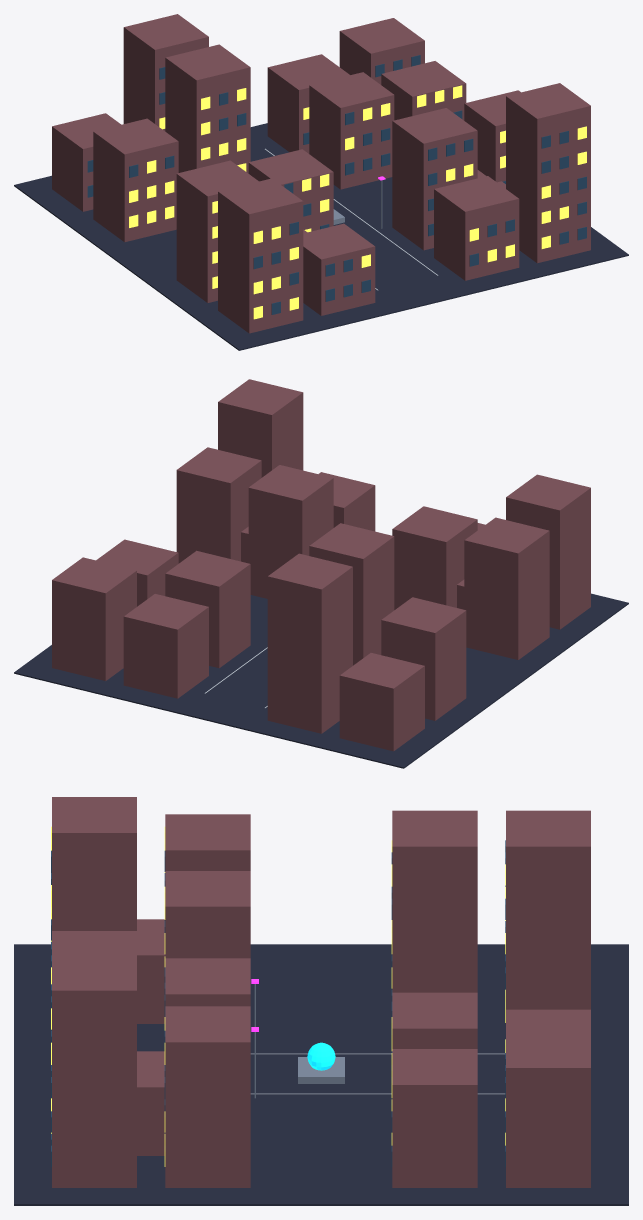
Rendered from wise_square.glb.
The picture shows the model from 3 angles, top to bottom: view 1: azimuth 30°, elevation 25°; view 2: azimuth 150°, elevation 25°; view 3: azimuth 270°, elevation 25°; orthographic projection. The views are drawn at different scales.
Visible parts, largest first — view 1: street, apartment_24_-24, apartment_-24_-24, apartment_-12_12, apartment_-24_12, apartment_12_-12, apartment_12_12, apartment_12_-24, apartment_-24_-12, apartment_-12_24, apartment_-12_-24, apartment_12_24 (+5 smaller); view 2: street, apartment_-12_24, apartment_-24_-12, apartment_24_24, apartment_12_-12, apartment_-24_-24, apartment_12_24, apartment_24_-12, apartment_-24_24, apartment_-24_12, apartment_24_-24, apartment_-12_-12 (+4 smaller); view 3: street, apartment_24_-24, apartment_-12_24, apartment_-12_12, apartment_24_-12, apartment_24_24, apartment_24_12, apartment_-24_-24, apartment_-12_-12, apartment_-24_-12, apartment_12_12, apartment_12_-12 (+6 smaller).
Boxes of the visible parts, x1,y1,x2,y2 form: street: [14, 123, 628, 350]; apartment_24_-24: [506, 83, 590, 263]; apartment_-24_-24: [218, 178, 303, 333]; apartment_-12_12: [165, 44, 250, 173]; apartment_-24_12: [93, 118, 178, 242]; apartment_12_-12: [392, 108, 477, 250]; apartment_12_12: [309, 72, 394, 189]; apartment_12_-24: [434, 176, 519, 280]; apartment_-24_-12: [176, 160, 258, 302]; apartment_-12_24: [123, 14, 208, 130]; apartment_-12_-24: [303, 223, 375, 315]; apartment_12_24: [267, 54, 349, 153]; street: [14, 593, 628, 768]; apartment_-12_24: [267, 553, 352, 733]; apartment_-24_-12: [464, 517, 549, 659]; apartment_24_24: [52, 557, 136, 680]; apartment_12_-12: [248, 465, 333, 598]; apartment_-24_-24: [506, 474, 590, 629]; apartment_12_24: [123, 594, 208, 698]; apartment_24_-12: [176, 447, 261, 563]; apartment_-24_24: [339, 653, 424, 751]; apartment_-24_12: [381, 597, 466, 720]; apartment_24_-24: [218, 379, 303, 477]; apartment_-12_-12: [392, 506, 477, 609]; street: [14, 944, 628, 1205]; apartment_24_-24: [52, 954, 136, 1187]; apartment_-12_24: [506, 810, 590, 1009]; apartment_-12_12: [392, 810, 477, 992]; apartment_24_-12: [165, 1006, 250, 1187]; apartment_24_24: [506, 1032, 590, 1187]; apartment_24_12: [392, 1049, 477, 1187]; apartment_-24_-24: [52, 797, 136, 930]; apartment_-12_-12: [165, 871, 250, 958]; apartment_-24_-12: [165, 814, 250, 870]; apartment_12_12: [392, 992, 477, 1048]; apartment_12_-12: [165, 958, 250, 1006].
Size of the model in its own units: 65 by 23.22 by 65.
